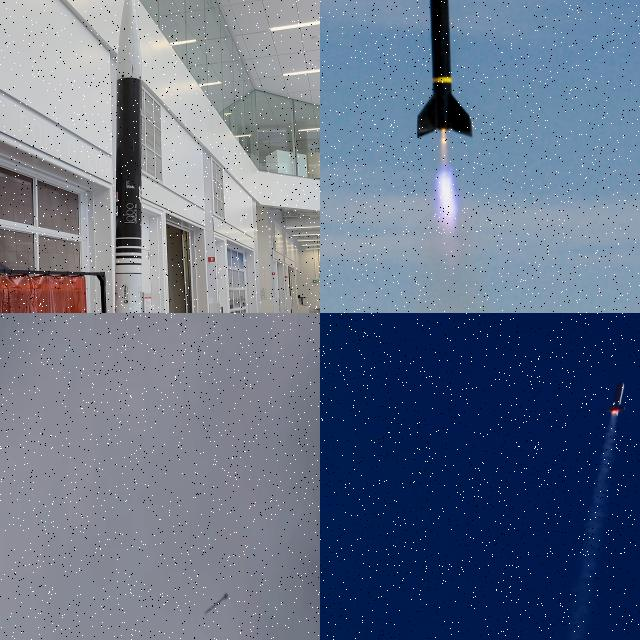Rocket: (414, 0, 474, 141), (115, 0, 142, 313), (604, 381, 627, 417), (205, 592, 228, 614)
